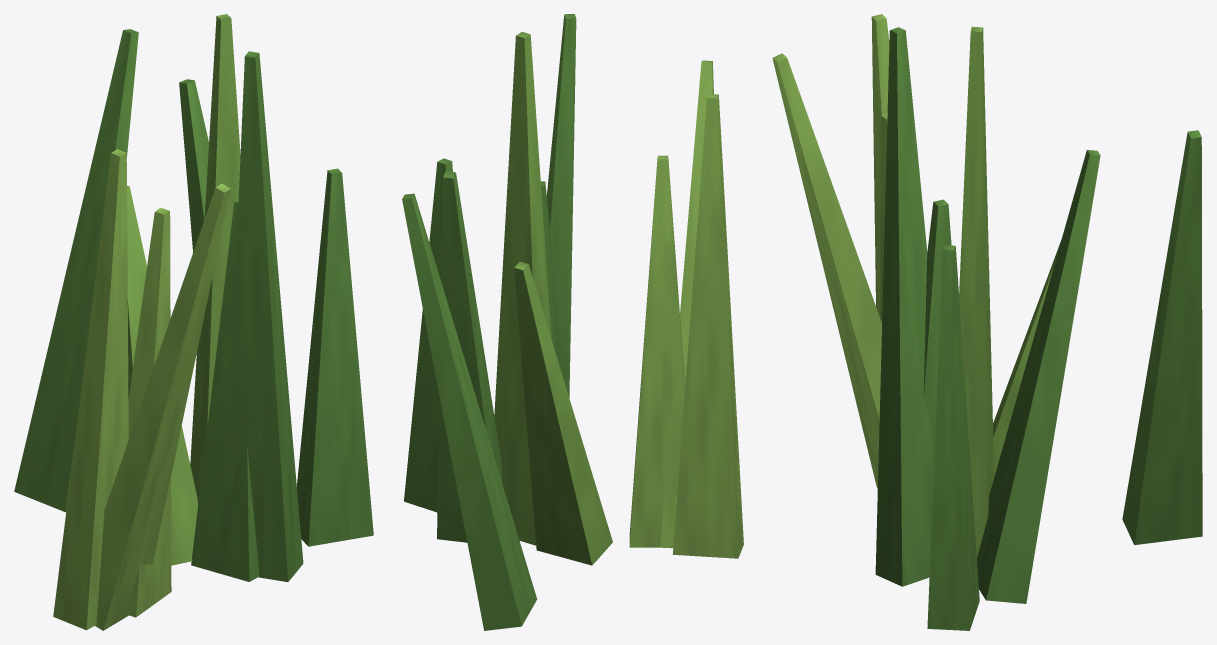
Rendered from grass_tuft_02.glb.
3 renders of one model, left to right at view 1: azimuth 30°, elevation 25°; view 2: azimuth 150°, elevation 25°; view 3: azimuth 270°, elevation 25°, orthographic. The views are drawn at different scales.
Parts seen in each view (by area): view 1: grass_tuft_02; view 2: grass_tuft_02; view 3: grass_tuft_02.
Part boxes in pixels (x1=…): grass_tuft_02: x1=14, y1=14, x2=373, y2=630; grass_tuft_02: x1=402, y1=14, x2=743, y2=630; grass_tuft_02: x1=772, y1=14, x2=1202, y2=630.
Size of the model in its own units: 0.2705 by 0.4197 by 0.3016.
1 material, 1 textured.
